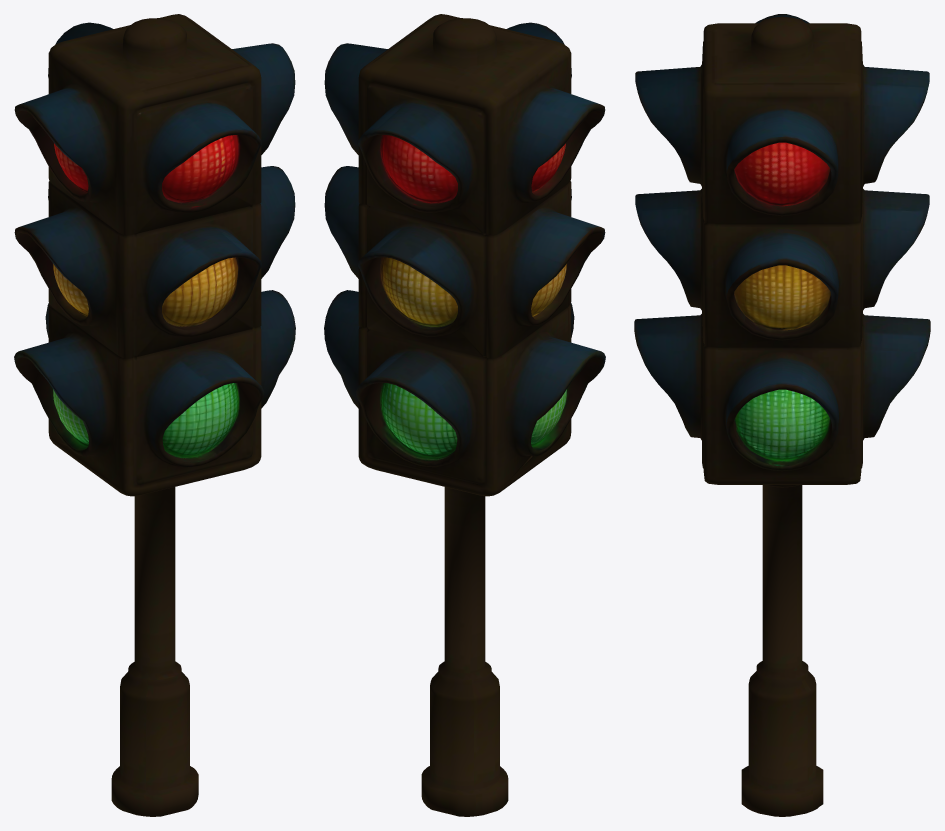
The model's file is traffic_light_b1babccc_v1.glb.
3 views of the same model, side by side, from view 1: azimuth 30°, elevation 25°; view 2: azimuth 150°, elevation 25°; view 3: azimuth 270°, elevation 25° (orthographic).
Visible parts, largest first — view 1: material; view 2: material; view 3: material.
Part boxes in pixels (bbox=[...]): material: bbox=[14, 14, 295, 816]; material: bbox=[324, 14, 605, 816]; material: bbox=[634, 14, 930, 816].
Bounding box in the file's own units: 0.6463 × 1.9 × 0.658.
Materials: 1 (1 with a texture image).
